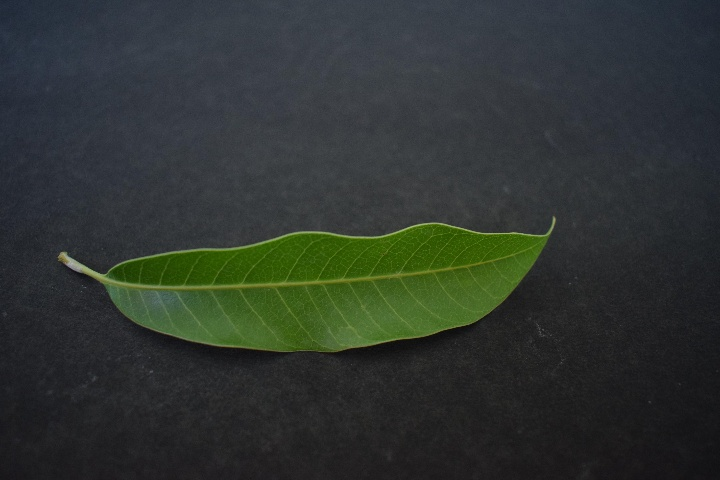healthy: (111, 221, 556, 349)
